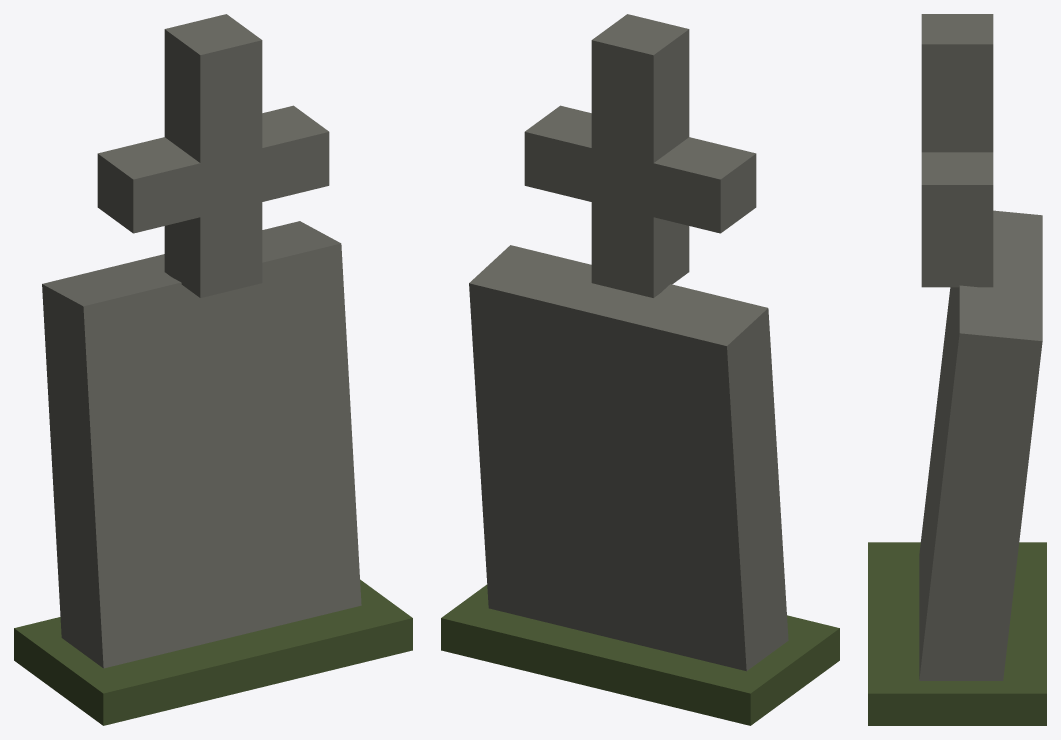
File: TombstoneCross.fbx
3 renders of one model, left to right at view 1: azimuth 30°, elevation 25°; view 2: azimuth 150°, elevation 25°; view 3: azimuth 270°, elevation 25°, orthographic.
Visible parts, largest first — view 1: TombstoneCross; view 2: TombstoneCross; view 3: TombstoneCross.
Boxes of the visible parts, x1,y1,x2,y2 form: TombstoneCross: (14, 14, 412, 725); TombstoneCross: (441, 14, 839, 725); TombstoneCross: (868, 14, 1046, 725).
Size of the model in its own units: 0.6 by 1.16 by 0.3.
